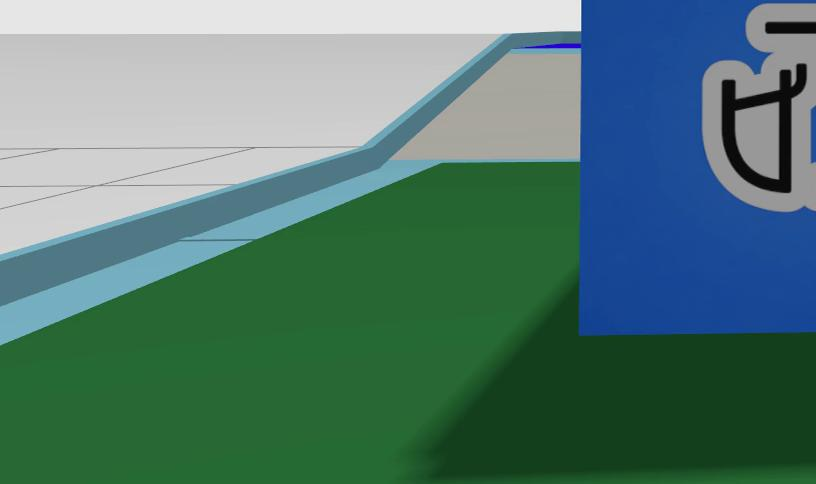KFS_REAL: (578, 0, 816, 333), (702, 0, 816, 212)
